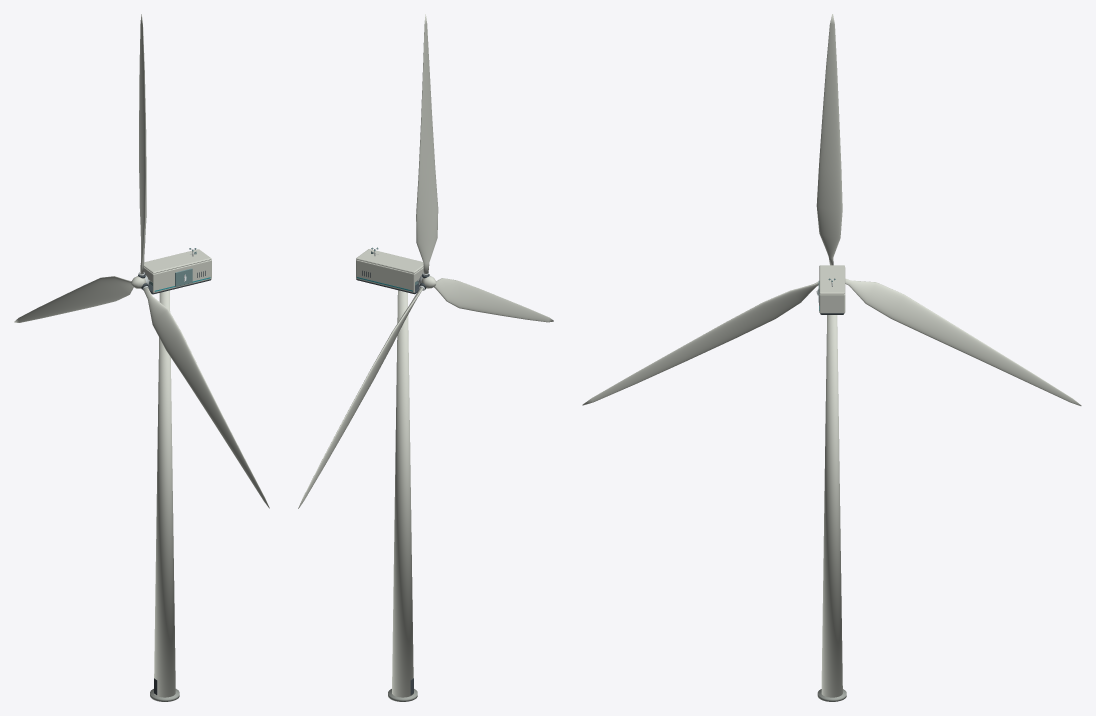
File: wind-turbine-blockout.glb
3 renders of one model, left to right at view 1: azimuth 30°, elevation 25°; view 2: azimuth 150°, elevation 25°; view 3: azimuth 270°, elevation 25°, orthographic. The views are drawn at different scales.
Visible parts, largest first — view 1: tower__Porcelain, blade_1__Porcelain, blade_2__Porcelain, nacelle_shell__Porcelain, blade_0__Porcelain; view 2: tower__Porcelain, blade_0__Porcelain, blade_1__Porcelain, nacelle_shell__Porcelain, blade_2__Porcelain; view 3: tower__Porcelain, blade_2__Porcelain, blade_0__Porcelain, blade_1__Porcelain, nacelle_shell__Porcelain.
Boxes of the visible parts, left/top/right/bottom form: tower__Porcelain: left=154, top=290, right=175, bottom=697; blade_1__Porcelain: left=143, top=287, right=269, bottom=508; blade_2__Porcelain: left=14, top=276, right=133, bottom=322; nacelle_shell__Porcelain: left=140, top=249, right=211, bottom=293; blade_0__Porcelain: left=139, top=14, right=146, bottom=275; tower__Porcelain: left=392, top=290, right=413, bottom=697; blade_0__Porcelain: left=416, top=14, right=438, bottom=273; blade_1__Porcelain: left=434, top=278, right=553, bottom=322; nacelle_shell__Porcelain: left=356, top=249, right=423, bottom=292; blade_2__Porcelain: left=298, top=286, right=423, bottom=508; tower__Porcelain: left=821, top=315, right=842, bottom=697; blade_2__Porcelain: left=845, top=278, right=1081, bottom=405; blade_0__Porcelain: left=816, top=14, right=842, bottom=265; blade_1__Porcelain: left=582, top=281, right=818, bottom=405; nacelle_shell__Porcelain: left=819, top=265, right=845, bottom=313.
Bounding box in the file's own units: 6.62 × 58.59 × 39.53.
